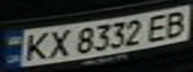2: (124, 16, 148, 47)
3: (93, 21, 115, 52), (109, 20, 130, 50)
8: (72, 24, 96, 55)
B: (160, 8, 193, 38)
E: (142, 11, 175, 43)
K: (18, 29, 54, 63)
X: (42, 26, 72, 60)
